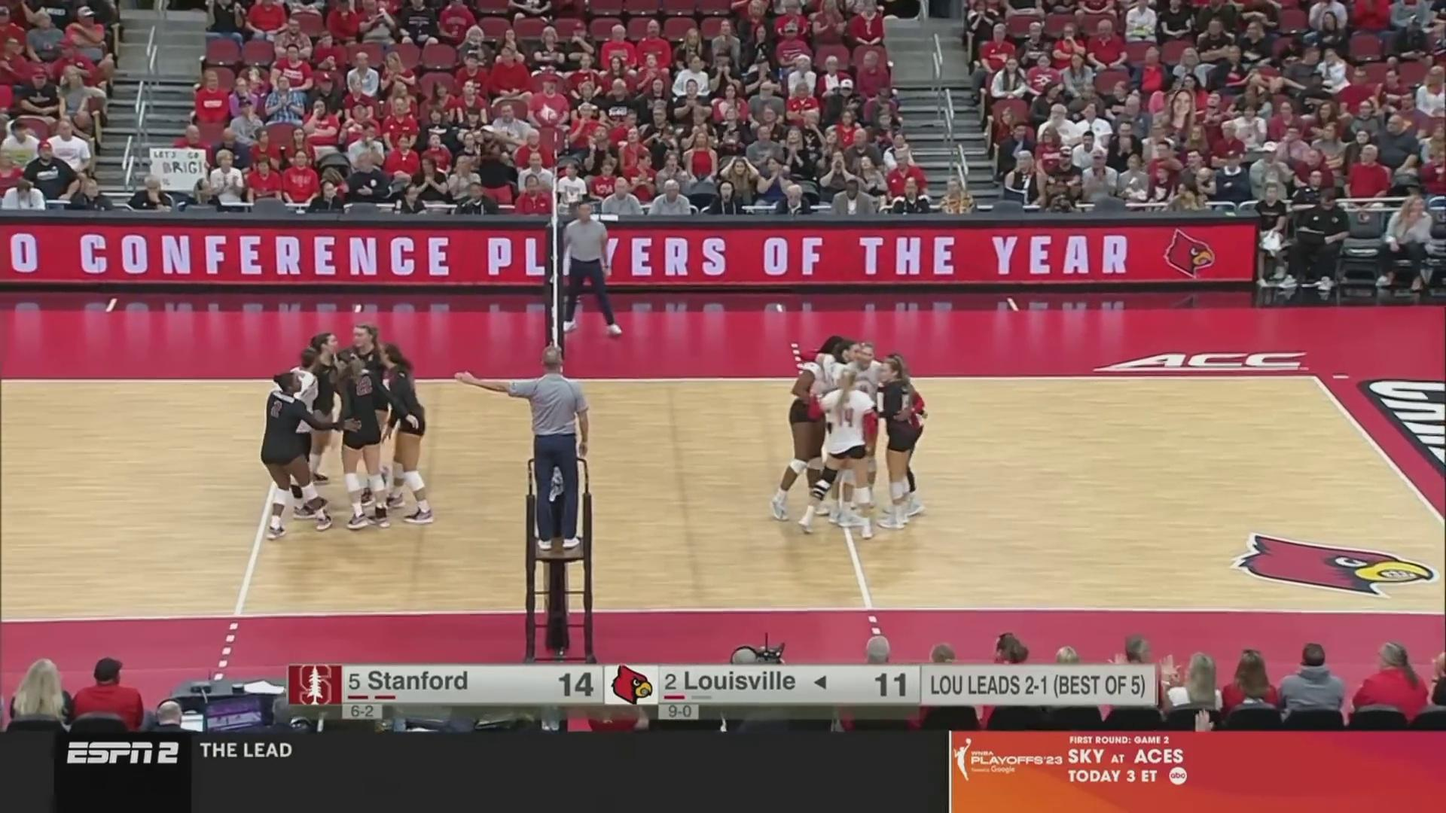player: (774, 329, 846, 523), (803, 367, 874, 536), (261, 376, 335, 532), (336, 354, 388, 532), (344, 322, 391, 511), (378, 342, 427, 523), (299, 330, 349, 507), (276, 350, 326, 518), (816, 343, 861, 527), (847, 338, 884, 524), (884, 353, 924, 516), (879, 358, 916, 530)
refree: (466, 348, 587, 549), (555, 202, 627, 336)
